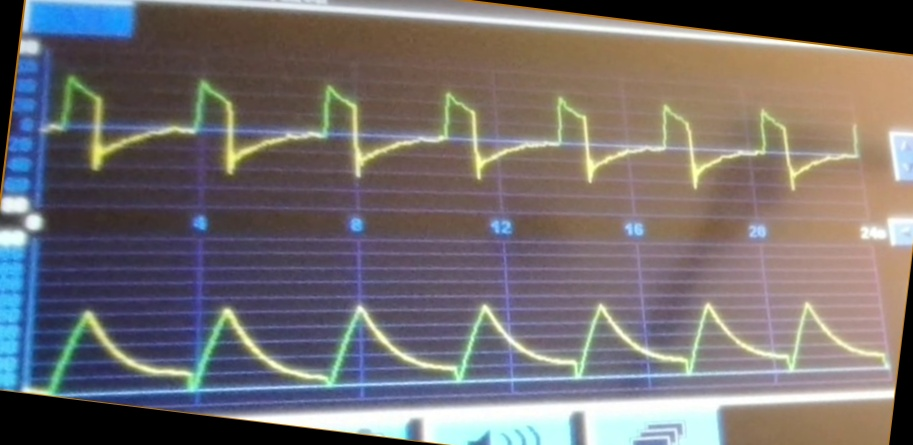Flow: (47, 75, 859, 200)
Leakage Volume: (38, 293, 888, 392)
